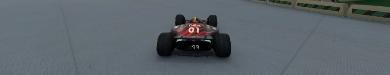Car: (155, 13, 231, 57)
obstacles-Borders: (247, 0, 389, 25)
